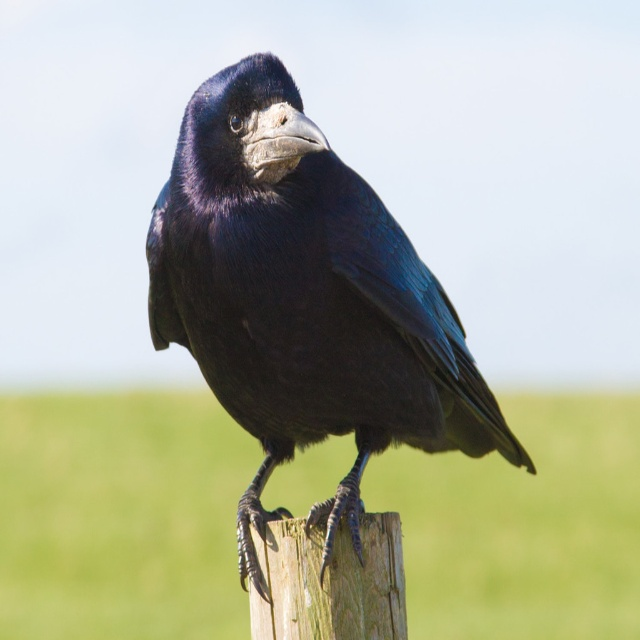Raven: (146, 50, 537, 604)
